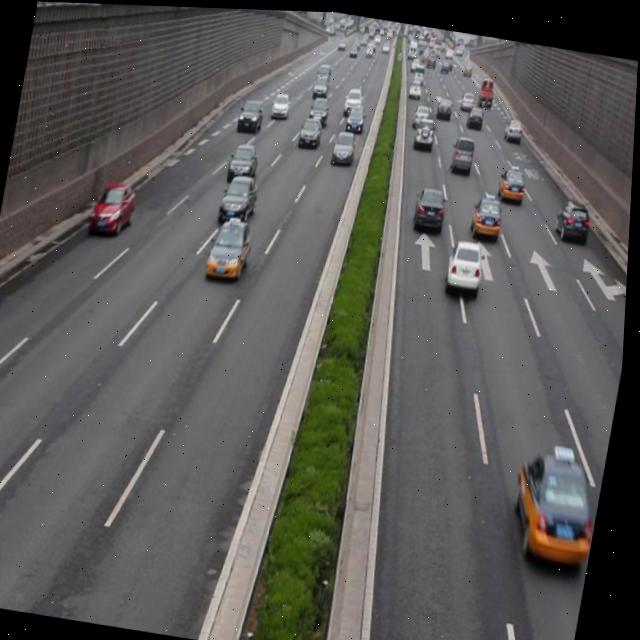car: (506, 433, 608, 568), (206, 213, 255, 280), (90, 175, 140, 237), (445, 233, 488, 291), (219, 168, 258, 222), (552, 190, 592, 242), (469, 190, 505, 239), (413, 181, 447, 230), (496, 157, 528, 202), (228, 140, 261, 181), (332, 128, 357, 160), (298, 116, 324, 146)
